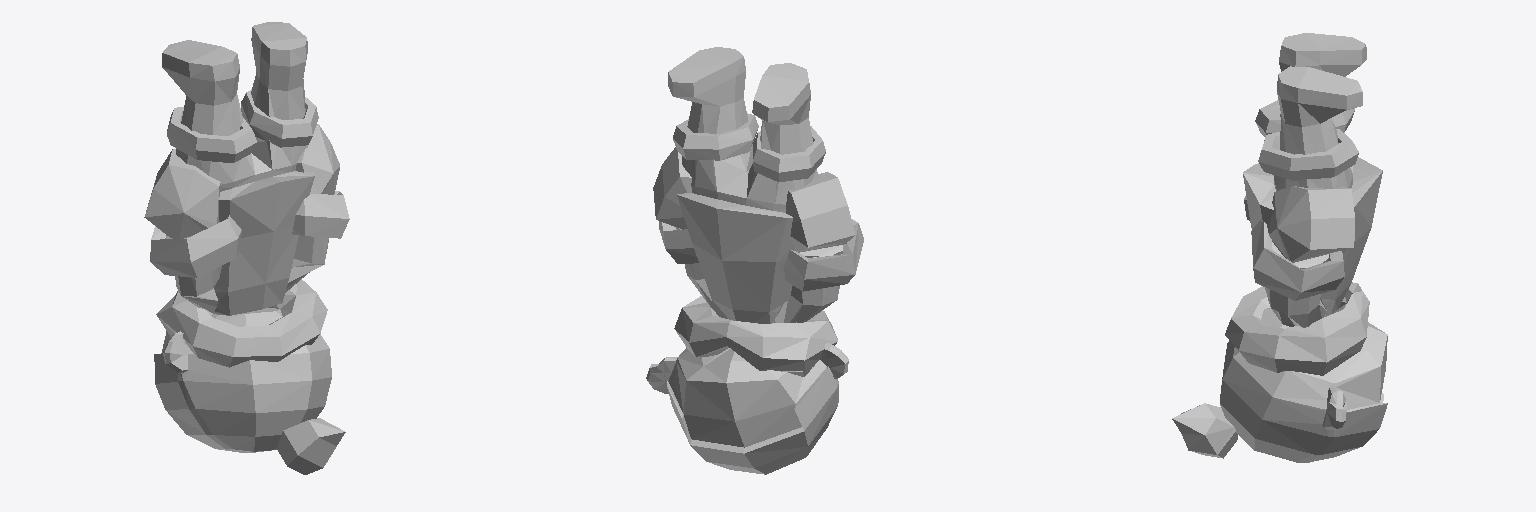
Rendered from eikastanding_000164.obj.
3 views of the same model, side by side, from view 1: azimuth 30°, elevation 25°; view 2: azimuth 150°, elevation 25°; view 3: azimuth 270°, elevation 25° (orthographic).
Visible parts, largest first — view 1: Cylinder; view 2: Cylinder; view 3: Cylinder.
Boxes of the visible parts, x1,y1,x2,y2 form: Cylinder: [144, 22, 349, 474]; Cylinder: [646, 47, 863, 474]; Cylinder: [1172, 33, 1387, 462].
Bounding box in the file's own units: 26.45 × 50.63 × 24.88.